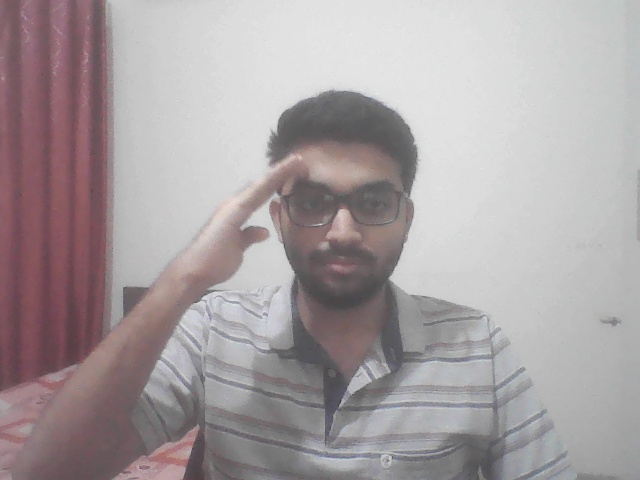hello: (121, 142, 307, 383), (219, 386, 222, 409)
